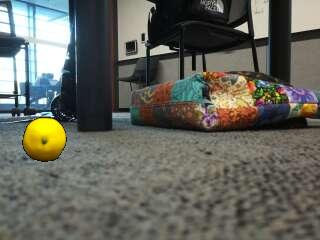lemon: (23, 118, 66, 161)
